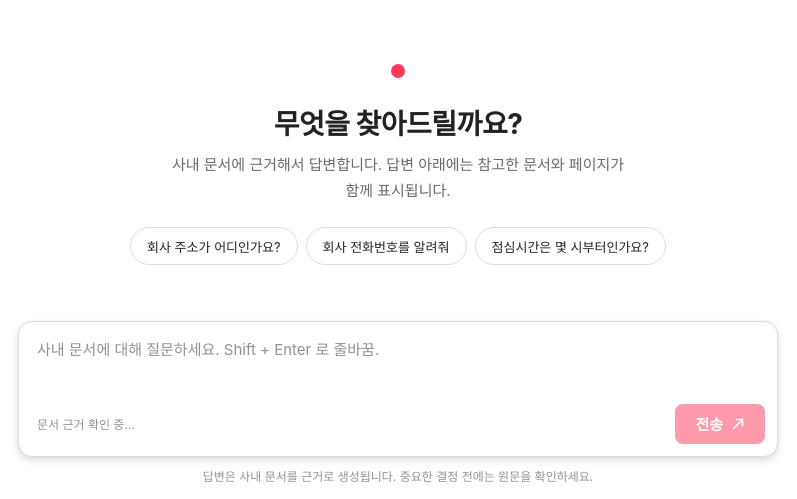
Test: ChatPanel › shows the user's own message immediately, rendered as plain text
Type "hello there" into the text box.
click(398, 359); type("hello there")  # box [19,322,777,396]
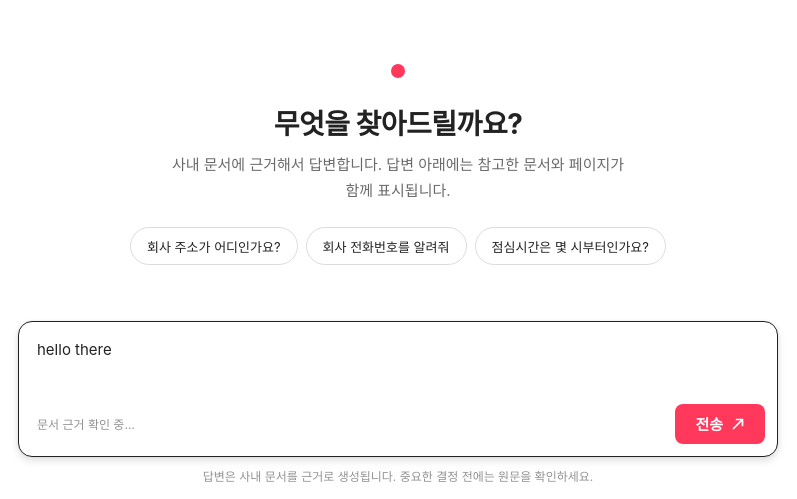
Click the button "전송".
click(720, 424)  # box [675,404,765,444]
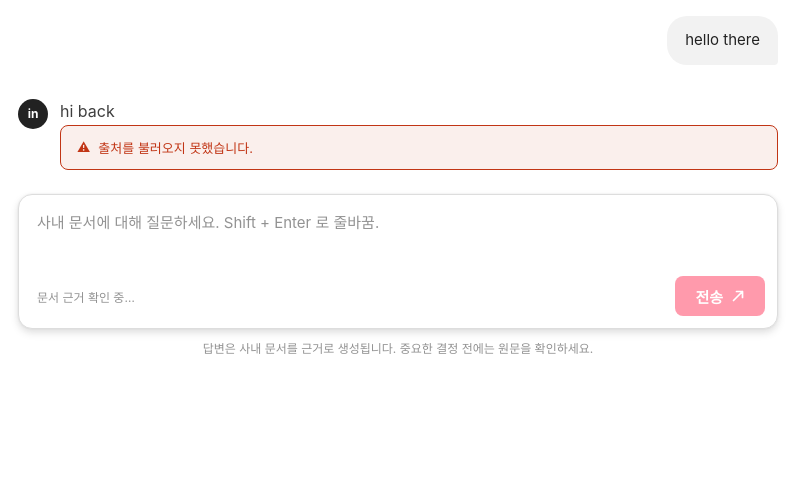
Now the text "hello there" is shown, box [667,16,778,65]
Now the text box is empty, box [19,195,777,268]
